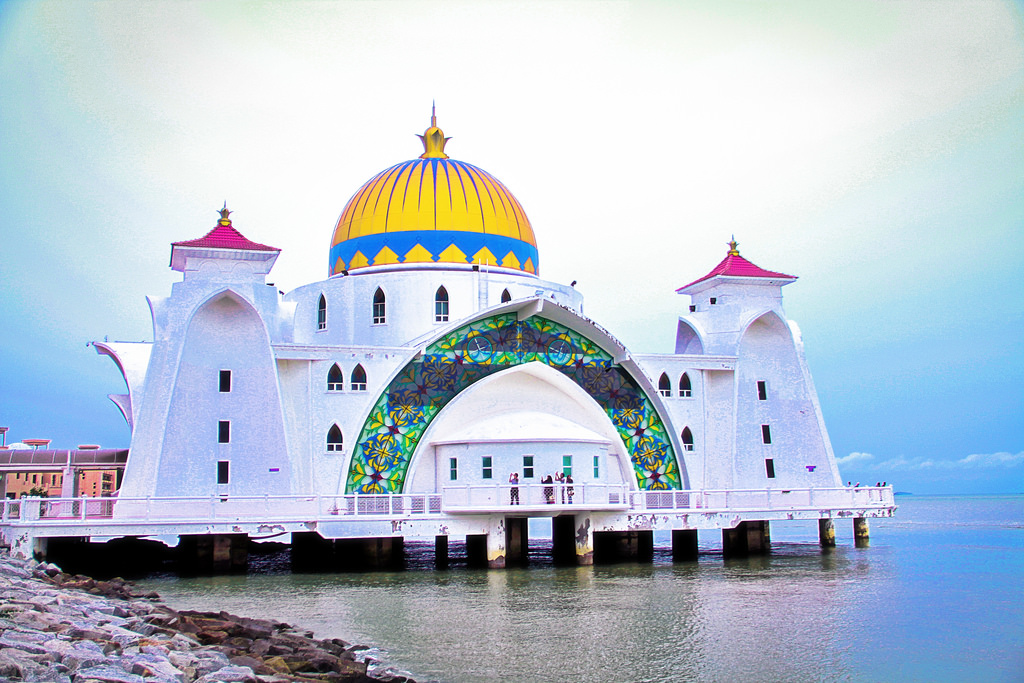Mosque: (112, 113, 848, 519)
